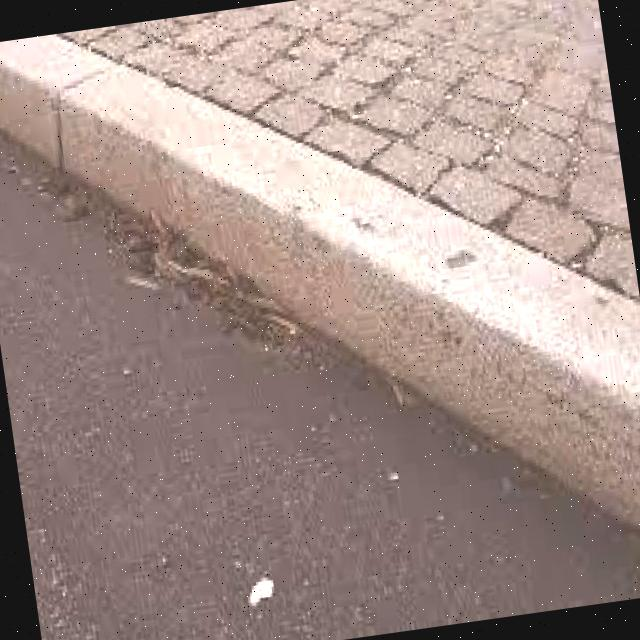curb: (315, 147, 526, 443), (169, 69, 389, 347), (496, 297, 640, 591), (1, 31, 154, 219)
